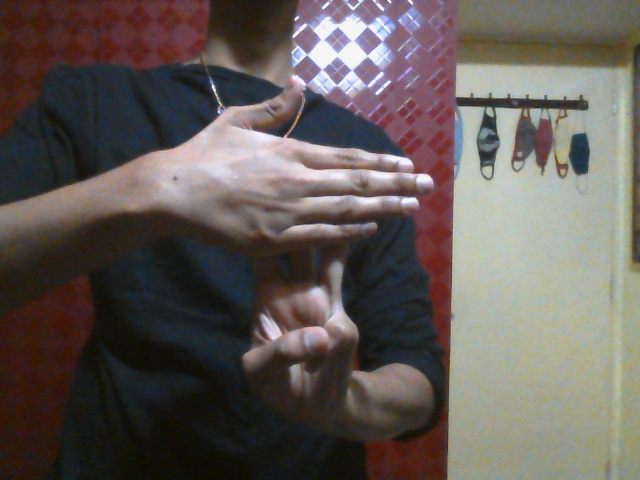M: (165, 74, 435, 412)
